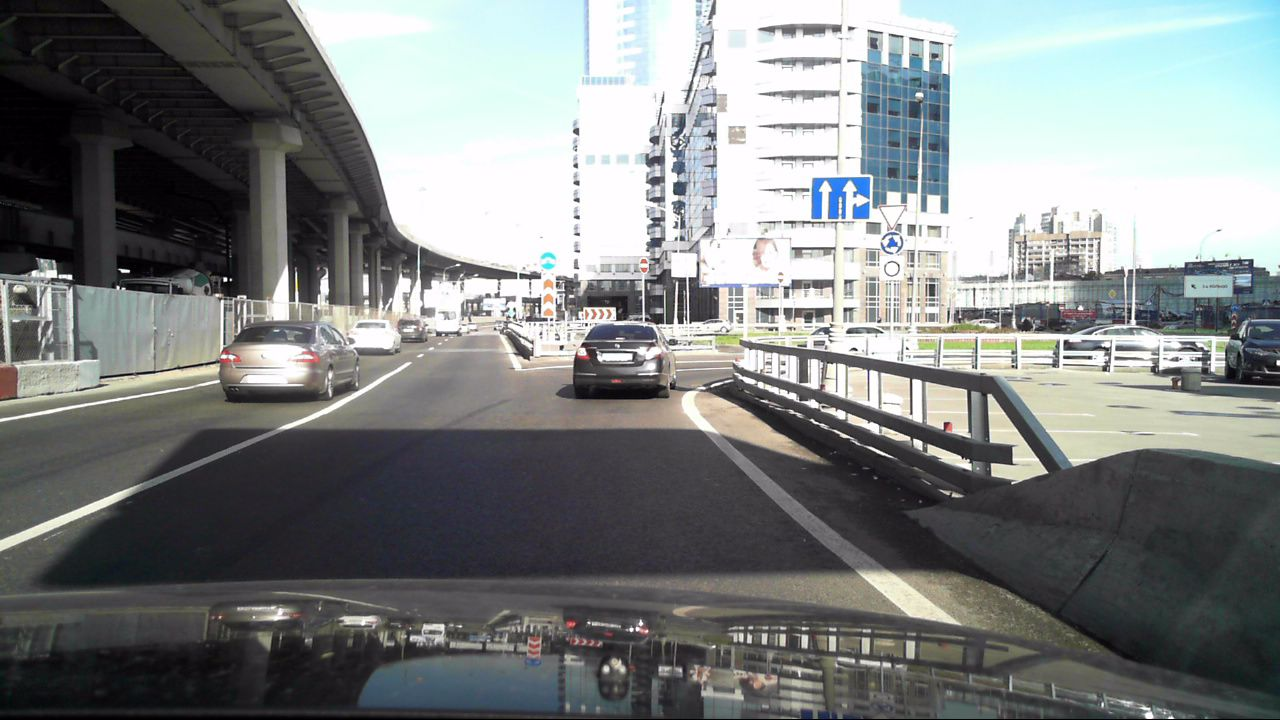Round-About: (879, 230, 904, 255)
